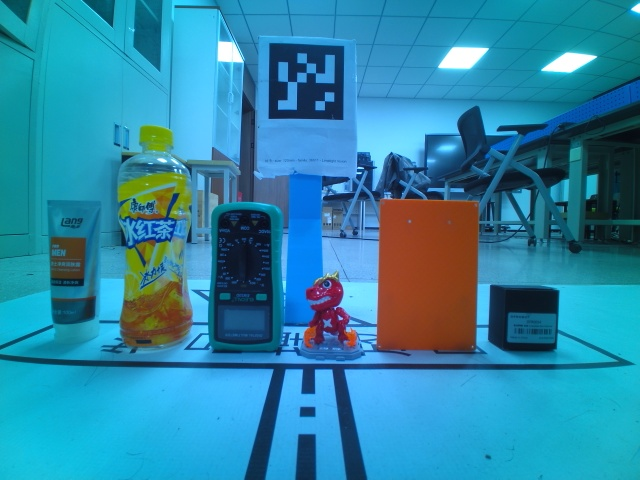banzi: (487, 282, 560, 352)
binghongcha: (299, 270, 365, 361)
dabao: (46, 199, 105, 346)
dianbiao: (116, 123, 193, 350)
hezi: (208, 201, 285, 354)
long: (377, 198, 479, 353)
